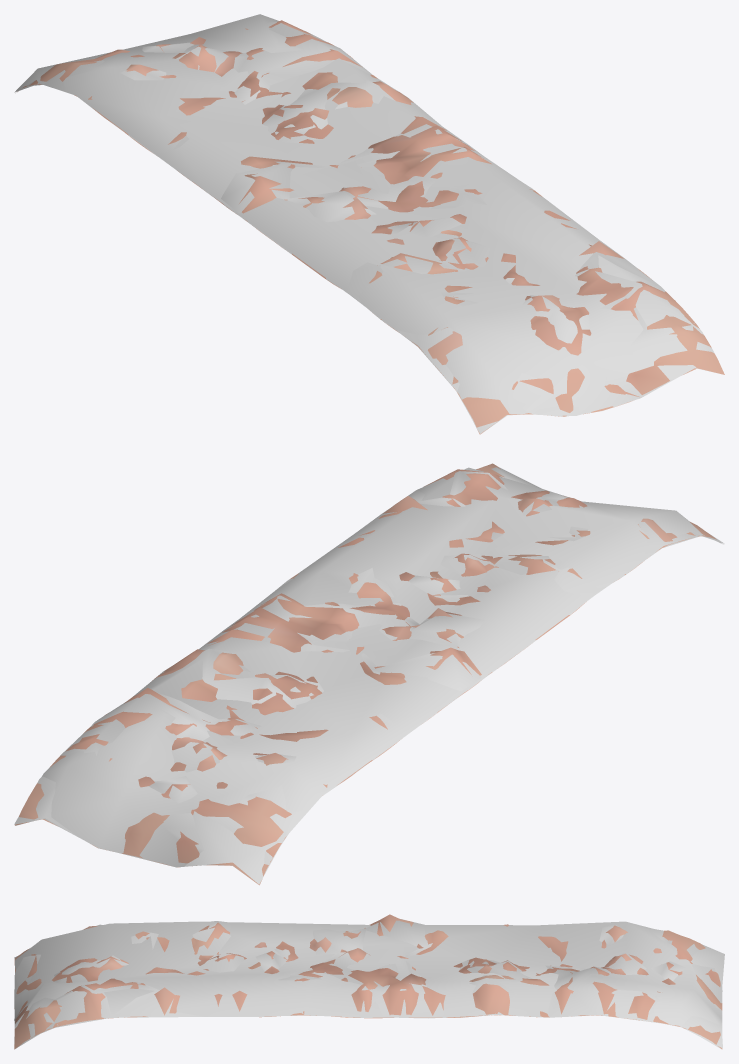
File: utah_mines_rough_edge.dae
3 views of the same model, one above another, from view 1: azimuth 30°, elevation 25°; view 2: azimuth 150°, elevation 25°; view 3: azimuth 270°, elevation 25° (orthographic). The views are drawn at different scales.
Visible parts, largest first — view 1: Colmesh-1, utah_mines_rough_edge_a800, utah_mines_rough_edge_a200; view 2: Colmesh-1, utah_mines_rough_edge_a800, utah_mines_rough_edge_a200; view 3: Colmesh-1, utah_mines_rough_edge_a800, utah_mines_rough_edge_a200.
Part boxes in pixels (bbox=[...]): Colmesh-1: bbox=[14, 14, 715, 431]; utah_mines_rough_edge_a800: bbox=[17, 20, 724, 434]; utah_mines_rough_edge_a200: bbox=[26, 21, 714, 433]; Colmesh-1: bbox=[14, 467, 723, 884]; utah_mines_rough_edge_a800: bbox=[15, 463, 716, 885]; utah_mines_rough_edge_a200: bbox=[15, 467, 724, 879]; Colmesh-1: bbox=[14, 921, 724, 1048]; utah_mines_rough_edge_a800: bbox=[14, 914, 722, 1049]; utah_mines_rough_edge_a200: bbox=[14, 919, 722, 1049].
Bounding box in the file's own units: 3.05 × 10.04 × 0.9489.
